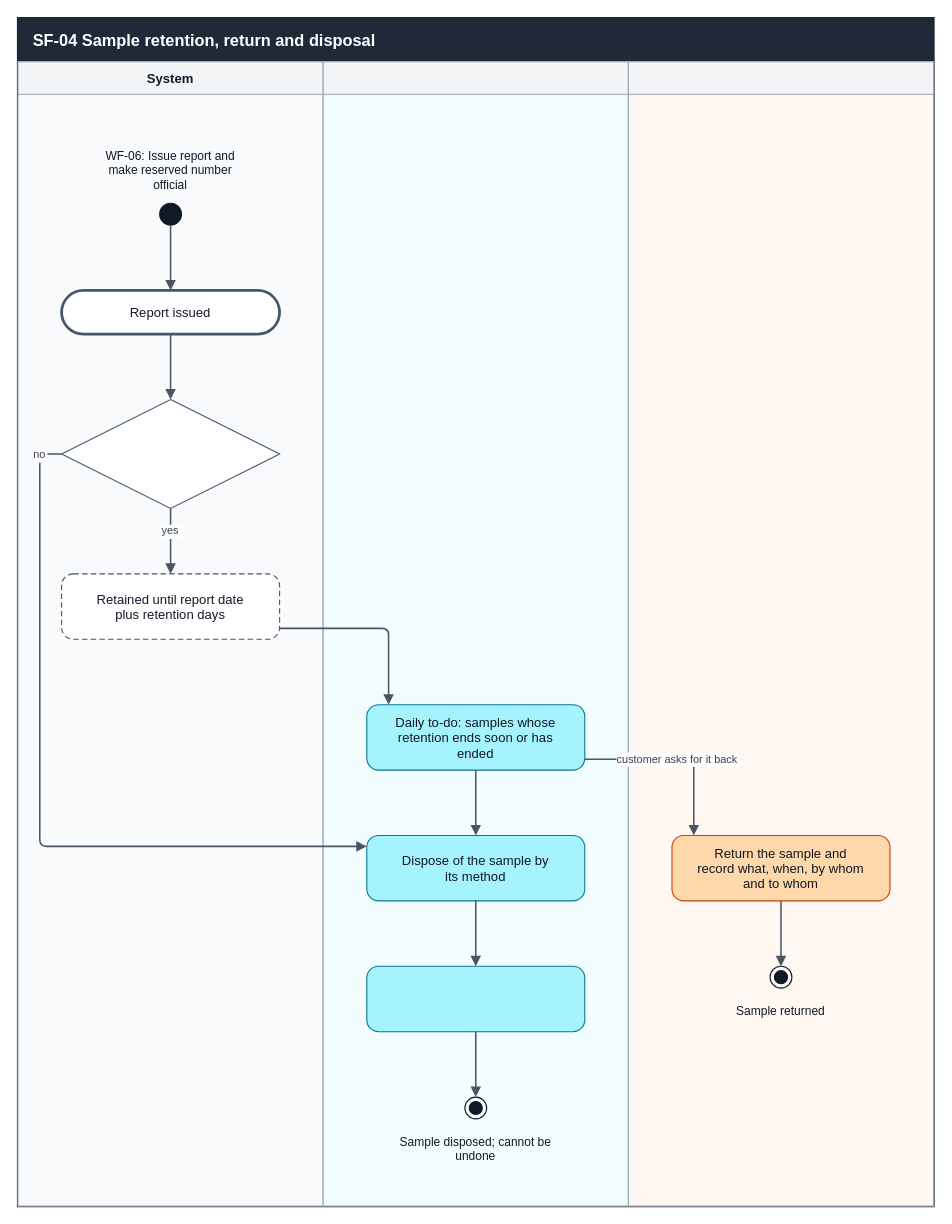
The diagram is 952 pixels wide and 1224 high, and some of its shapes have lost their labels. Each missing label, with the box of its shape:
Kept after testing?: (60, 398, 280, 508)
Record when, by whom and how: (366, 965, 585, 1032)
Sample Delivery Staff: (627, 60, 934, 1206)
Tester: (322, 60, 628, 1206)
